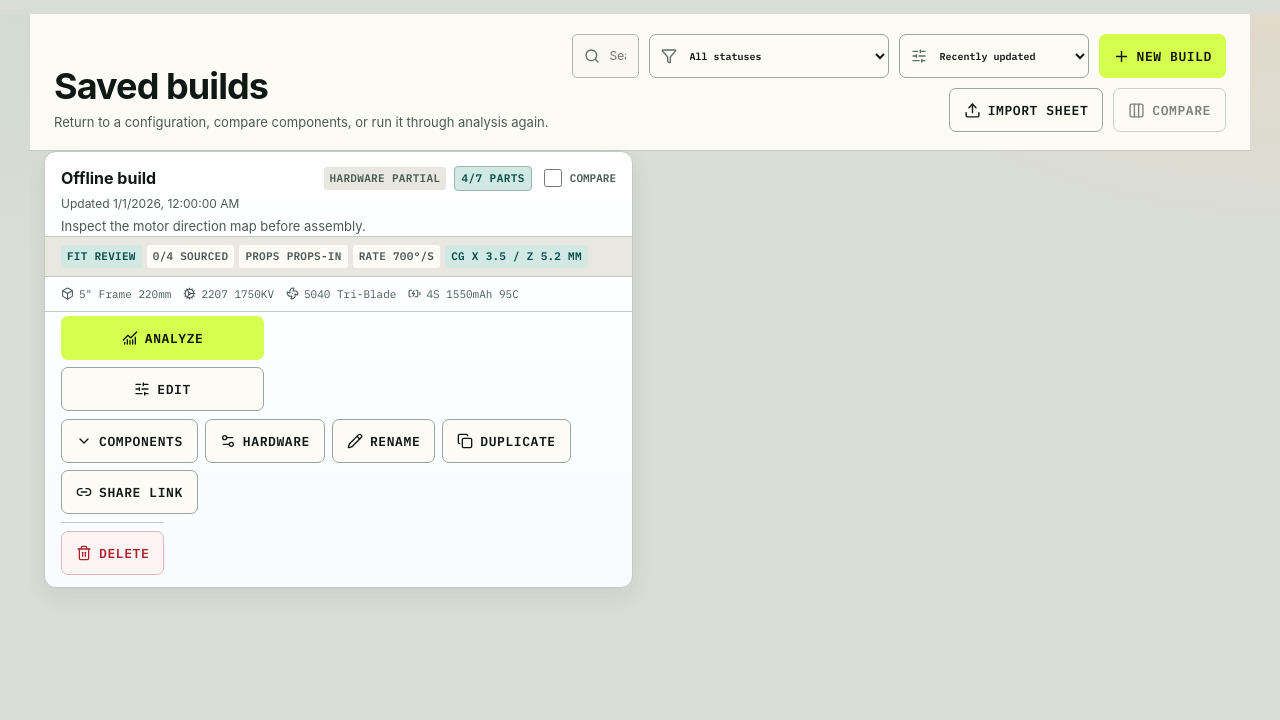
Test case: status filters isolate hardware-plan review from clear plans
Expected: the heading "Offline build" is shown, [61,168,156,188]
Select "Hardware plan review" in the dropdown named "Filter saved builds by status" at (768, 56), box [648,34,888,78]
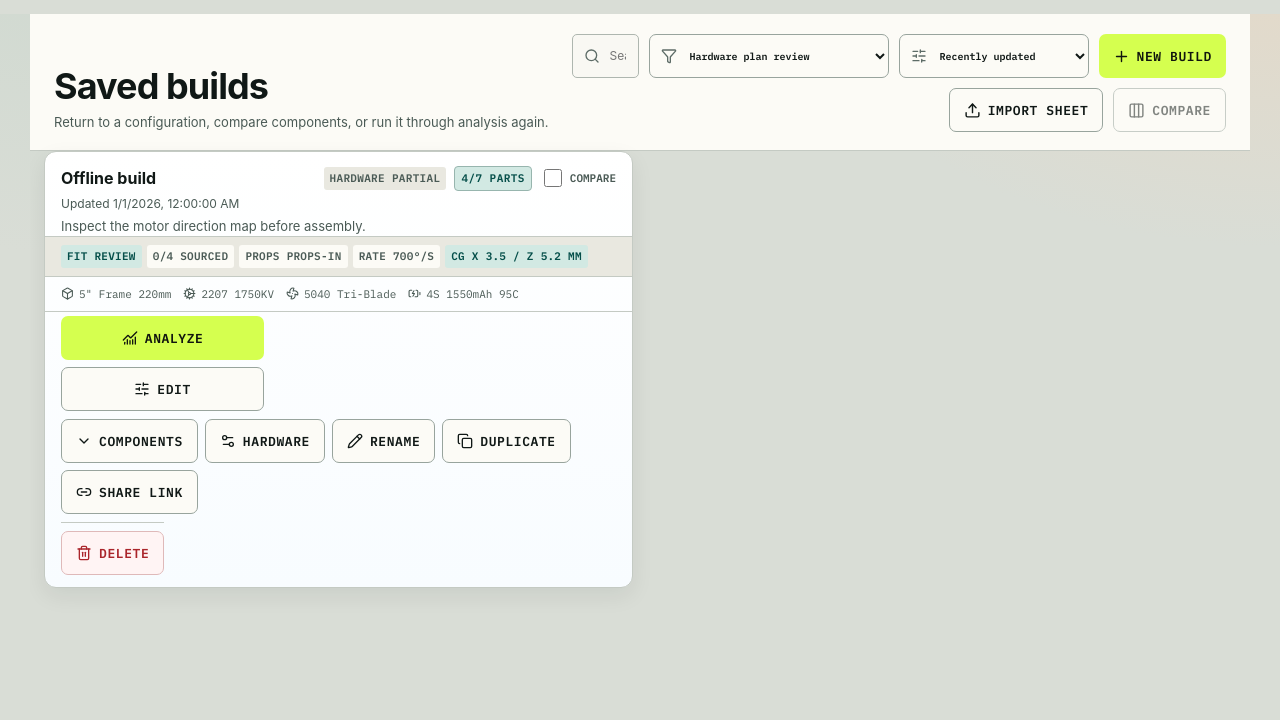
Expected: the heading "Offline build" is shown, [61,168,156,188]
Select "Hardware plan clear" in the dropdown named "Filter saved builds by status" at (768, 56), box [648,34,888,78]
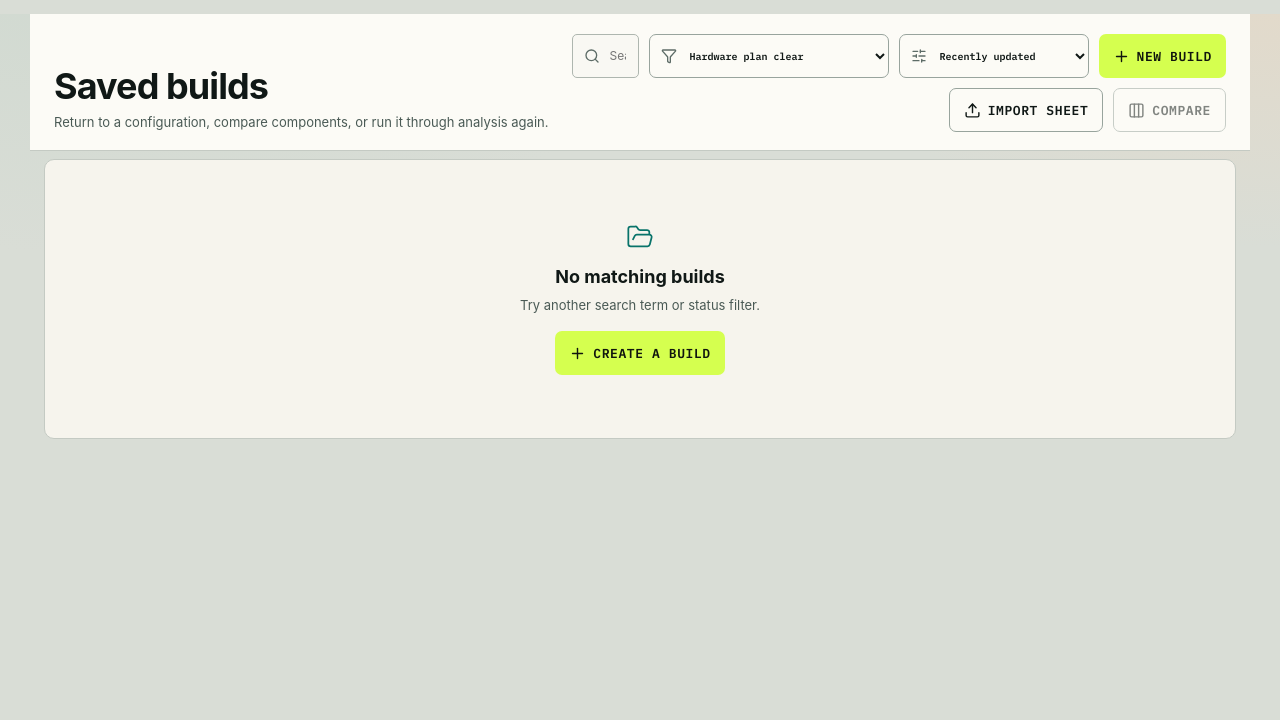
Expected: the heading "No matching builds" is shown, [555,263,725,290]
Select "All statuses" in the dropdown named "Filter saved builds by status" at (768, 56), box [648,34,888,78]
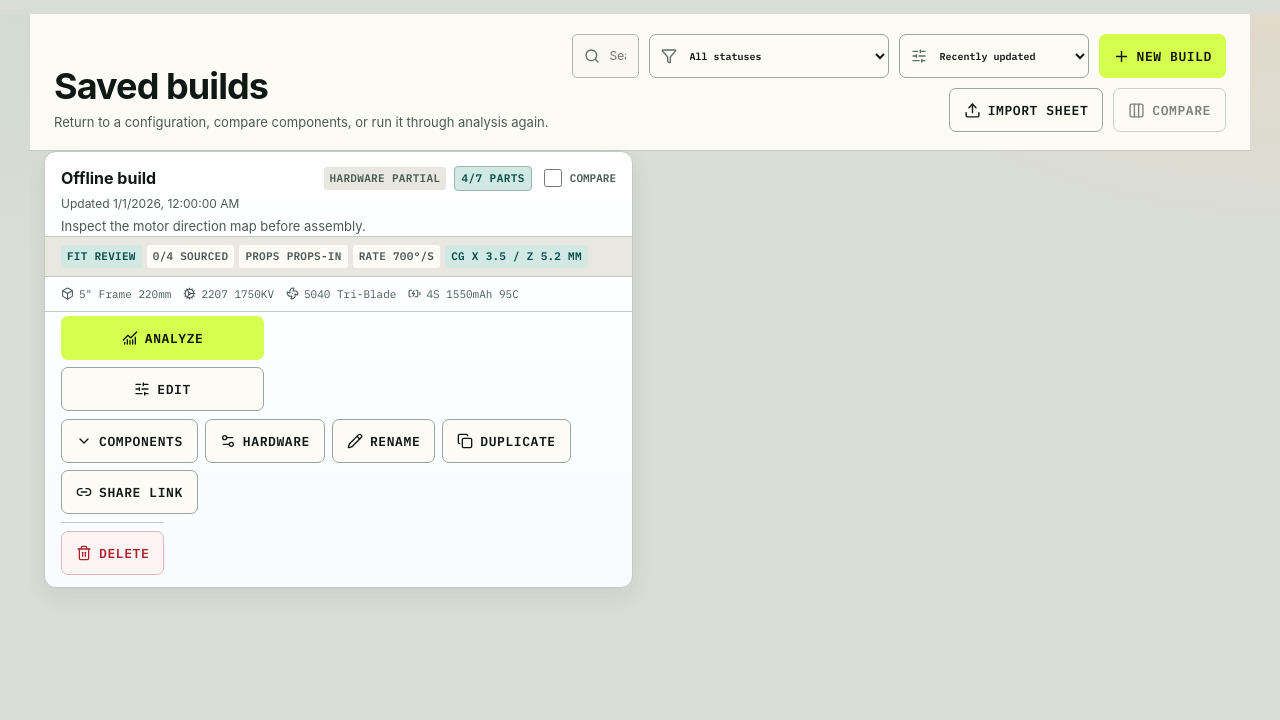
Expected: the heading "Offline build" is shown, [61,168,156,188]
